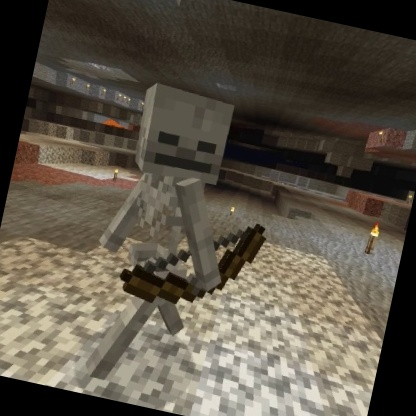skeleton: (65, 72, 296, 413)
